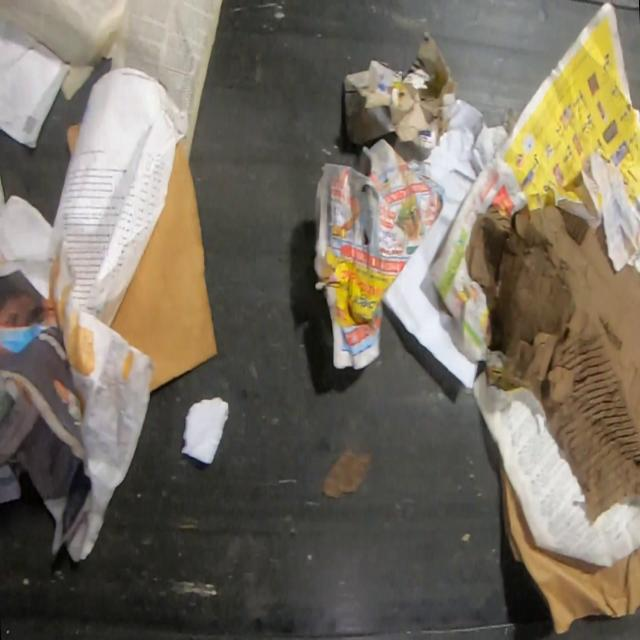cardboard: (466, 201, 640, 522), (112, 137, 220, 393), (501, 455, 640, 633), (65, 122, 81, 157)
